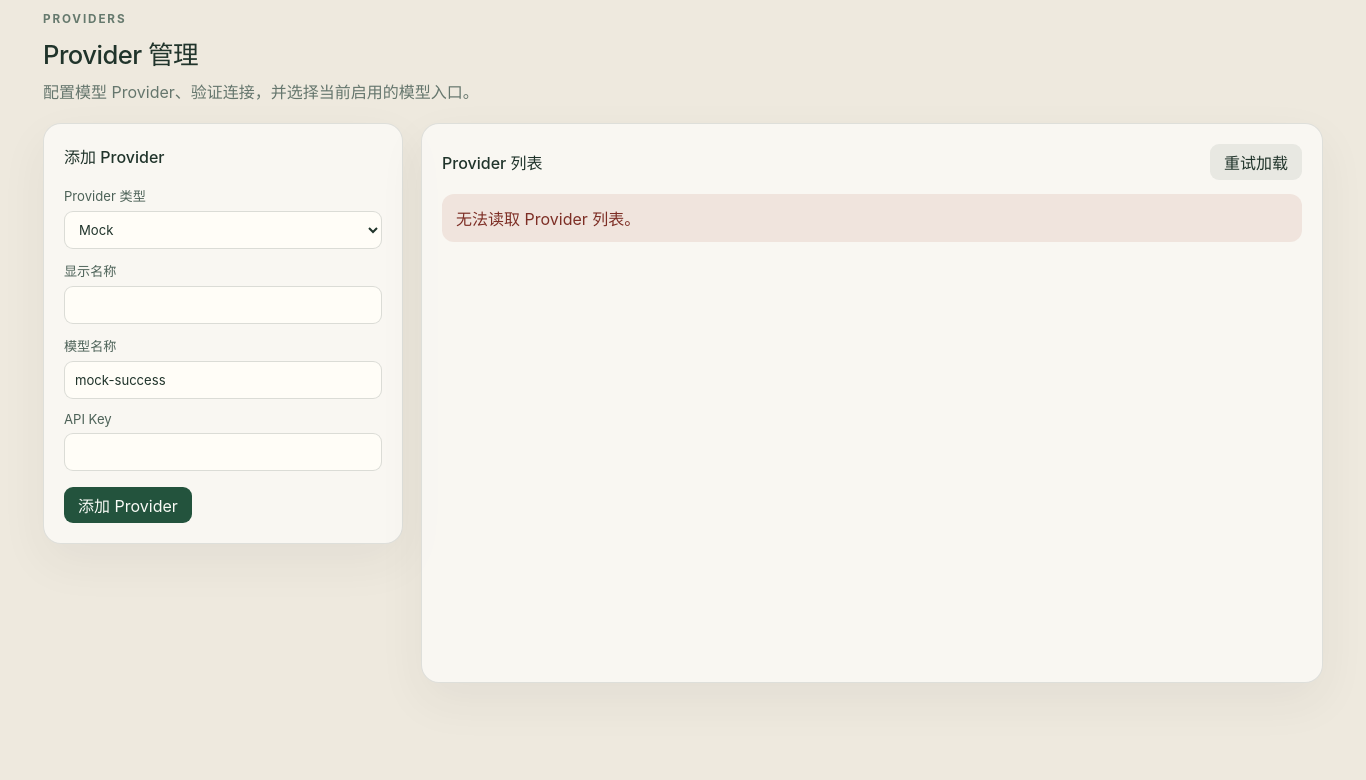
it: ProviderManager › shows safe error text when list or save fails
Expected: the message reads "无法读取 Provider 列表。", x1=456 y1=209 x2=640 y2=229
Step 1. Click the button "重试加载" → [1256, 162], box x1=1210 y1=144 x2=1302 y2=180
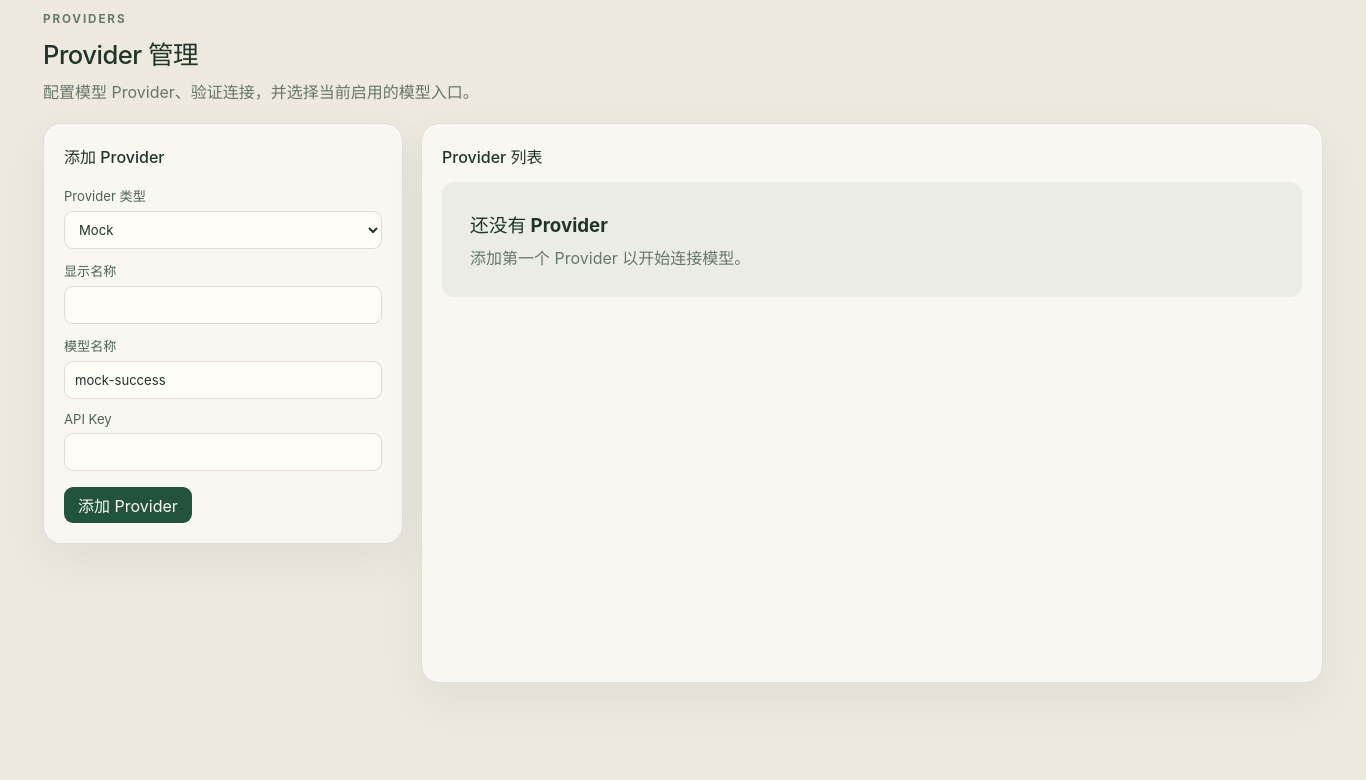
Expected: the heading "还没有 Provider" is shown, x1=470 y1=214 x2=608 y2=237
Step 2. Select "Mock" in the dropdown labelled "Provider 类型" → [223, 230], box x1=64 y1=211 x2=382 y2=249
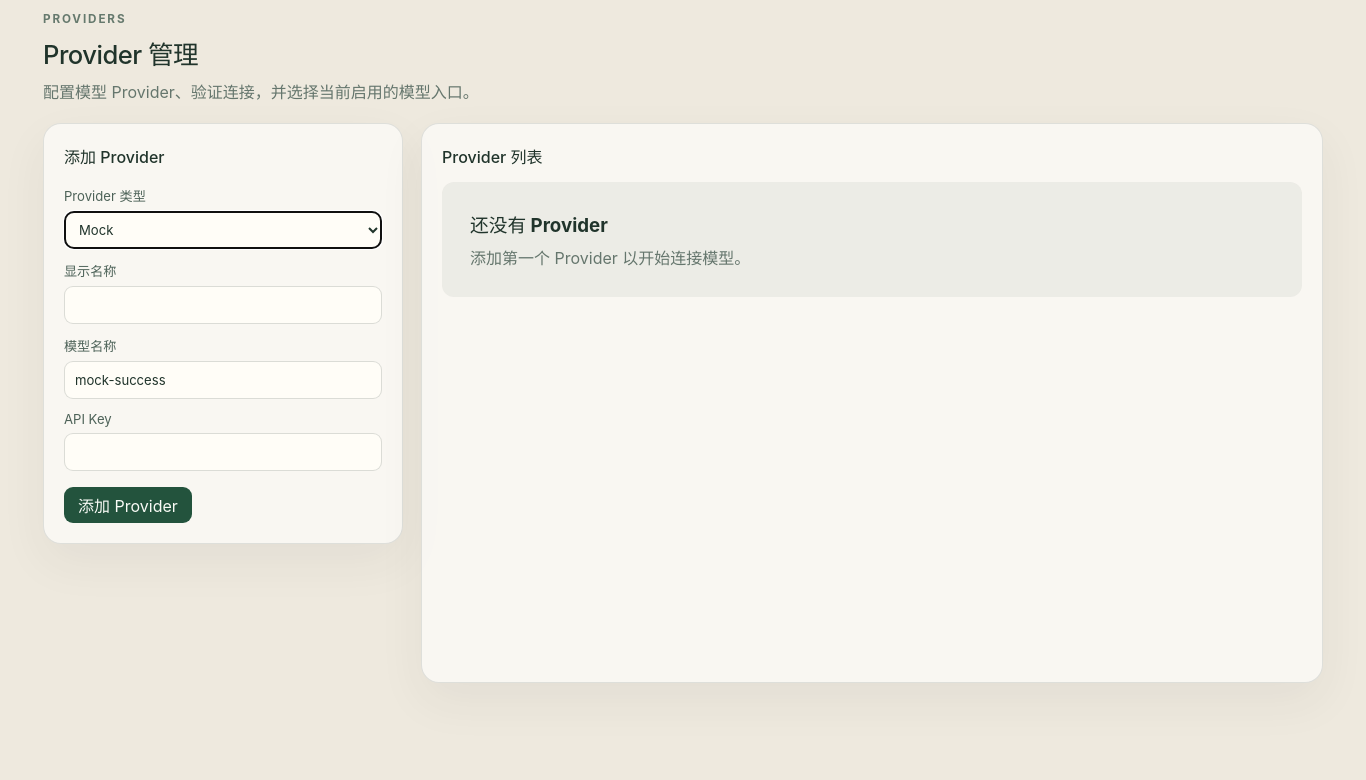
Step 3. Type "Mock Lab" into the field labelled "显示名称" → [223, 305], box x1=64 y1=286 x2=382 y2=324
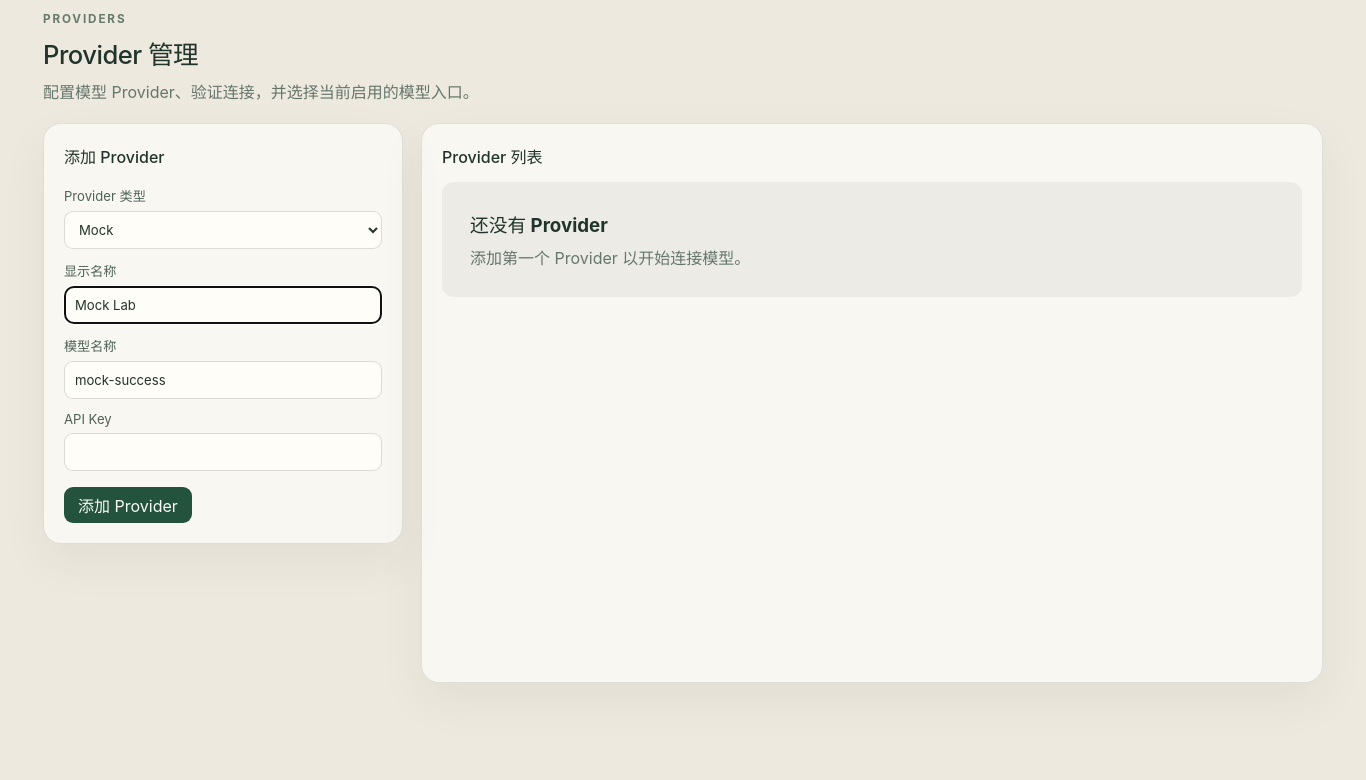
Step 4. Type "mock-invalid" into the field labelled "模型名称" → [223, 380], box x1=64 y1=361 x2=382 y2=399
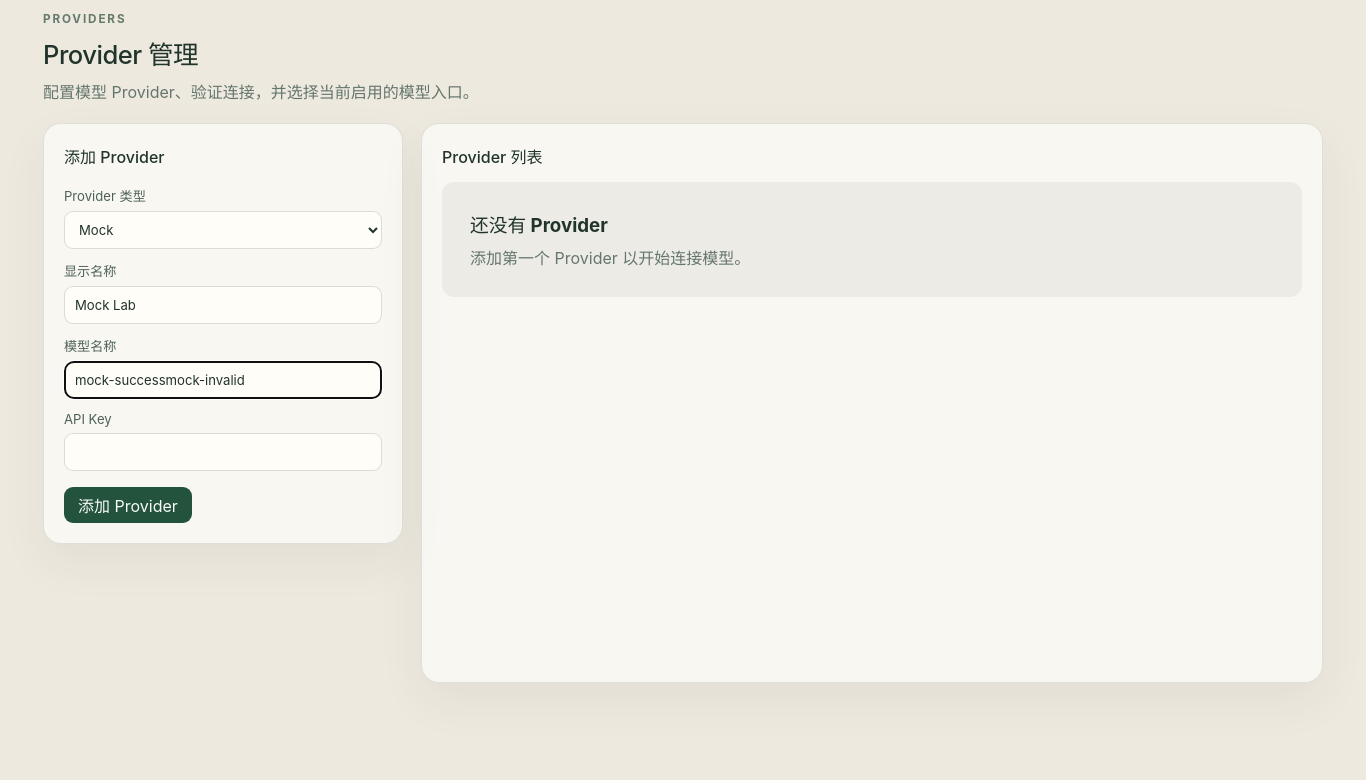
Step 5. Click the button "添加 Provider" → [128, 505], box x1=64 y1=487 x2=192 y2=523
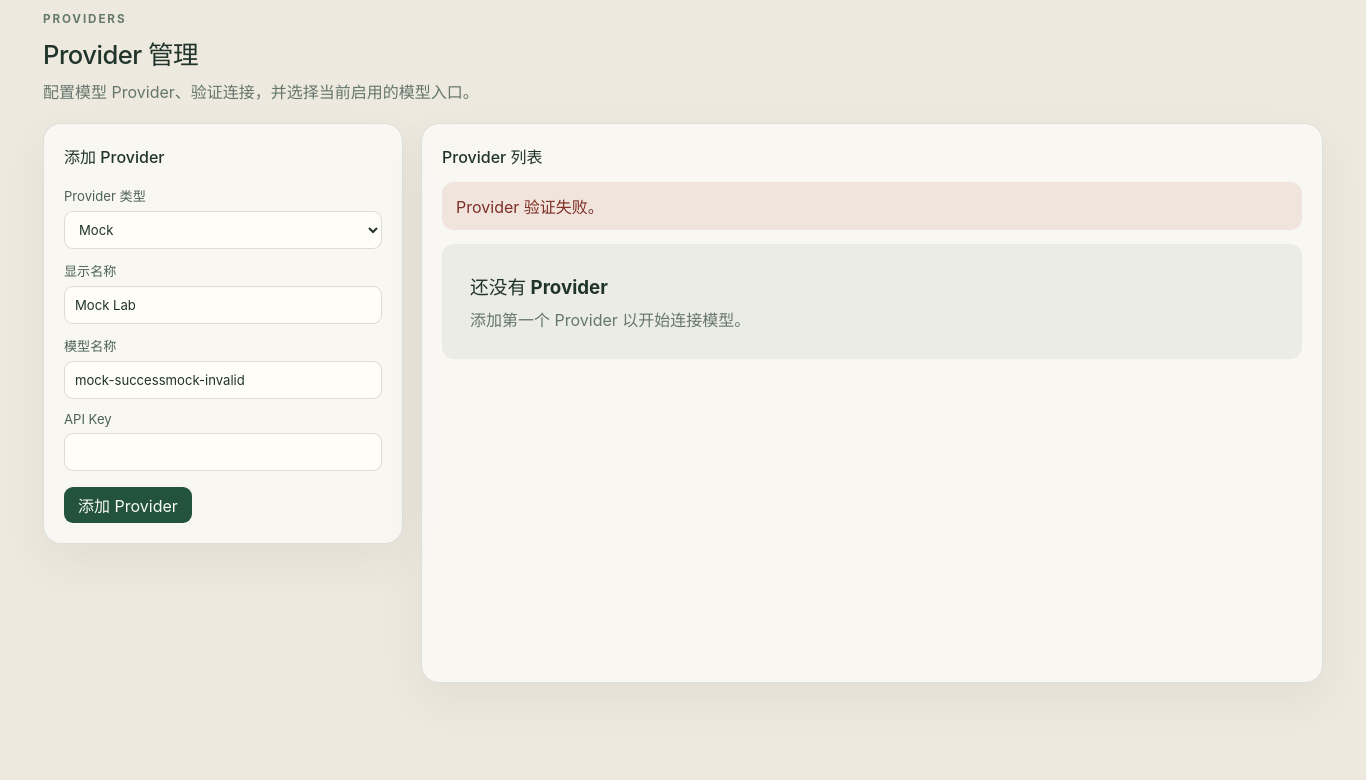
Expected: the message reads "Provider 验证失败。", x1=456 y1=197 x2=604 y2=217
